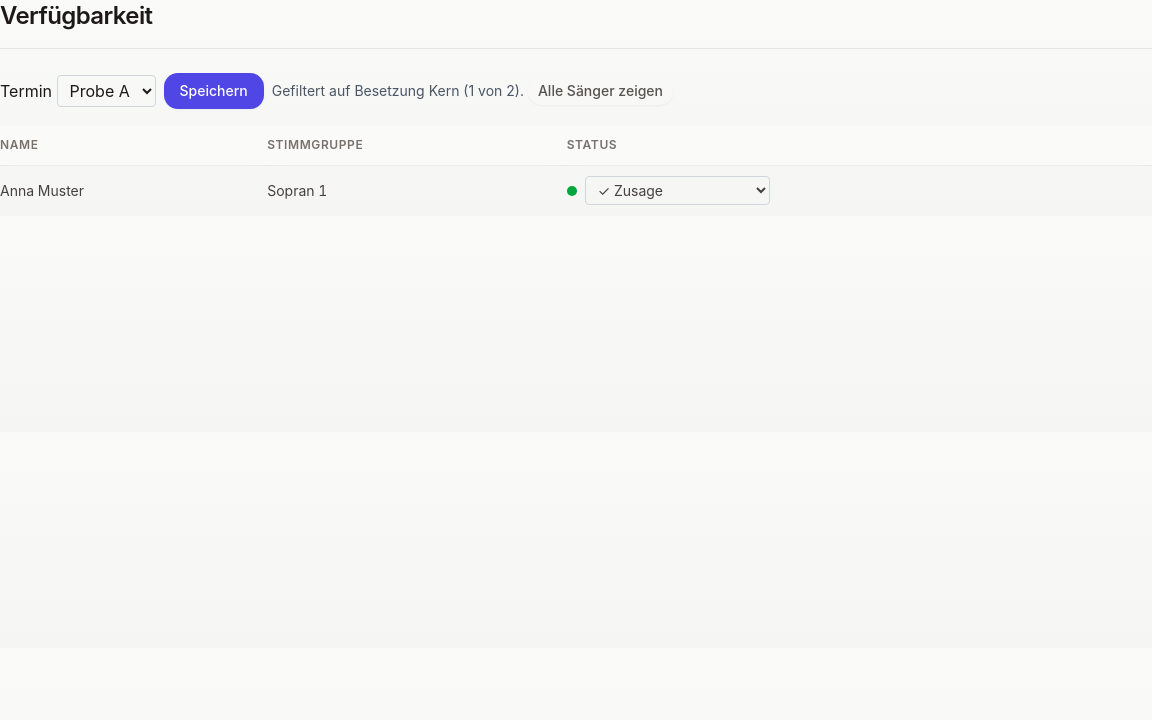
Test: Aktiv-Kontext: Verfügbarkeit › filtert auf die aktive Besetzung, opt-out möglich
The image size is (1152, 720).
Expected: the text "Gefiltert auf Besetzung Kern (1 von 2). Alle Sänger zeigen" is shown, [272,77,673,105]
Expected: the text "Anna Muster" is shown, [0,166,267,216]
Click the button "Alle Sänger zeigen" at [600, 91], box [528,77,673,105]
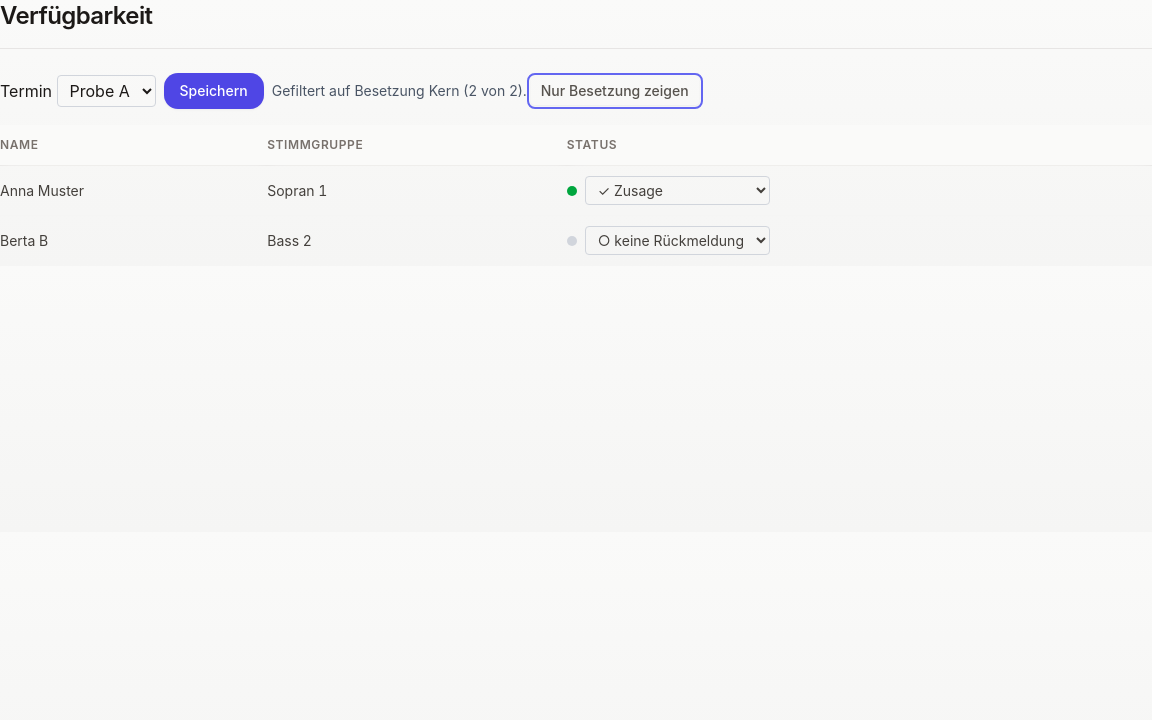
Expected: the text "Berta B" is shown, [0,216,267,266]
